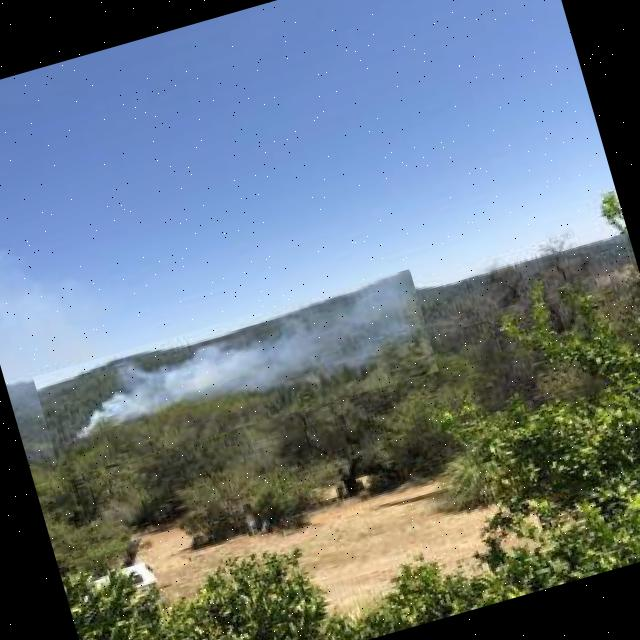fire: (32, 268, 438, 478)
